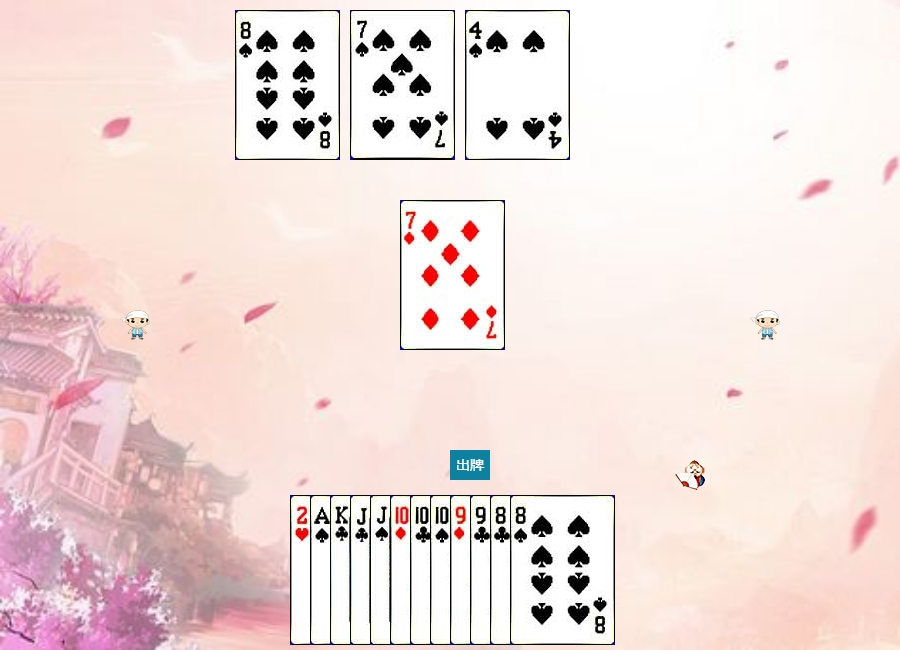10~1: (390, 495, 495, 645)
10~2: (410, 495, 515, 645)
10~4: (430, 495, 535, 645)
11~2: (350, 495, 455, 645)
11~4: (370, 495, 475, 645)
13~2: (330, 495, 435, 645)
14~4: (310, 495, 415, 645)
15~3: (290, 495, 395, 645)
4~4: (465, 10, 570, 160)
7~1: (400, 200, 505, 350)
7~4: (350, 10, 455, 160)
8~2: (490, 495, 595, 645)
8~4: (235, 10, 340, 160), (510, 495, 615, 645)
9~1: (450, 495, 555, 645)
9~2: (470, 495, 575, 645)
